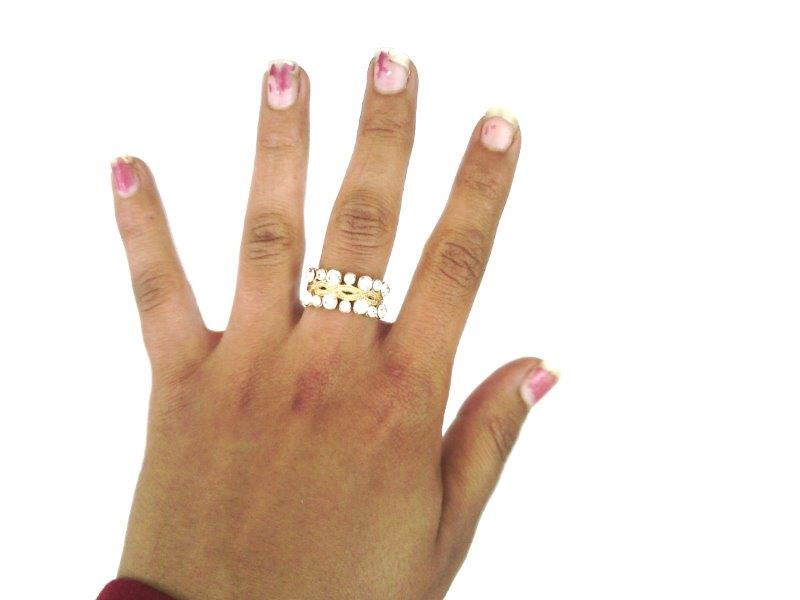hand: (112, 51, 558, 595)
